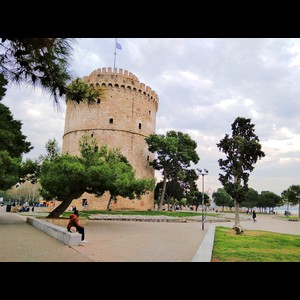White Tower: (58, 39, 160, 215)
